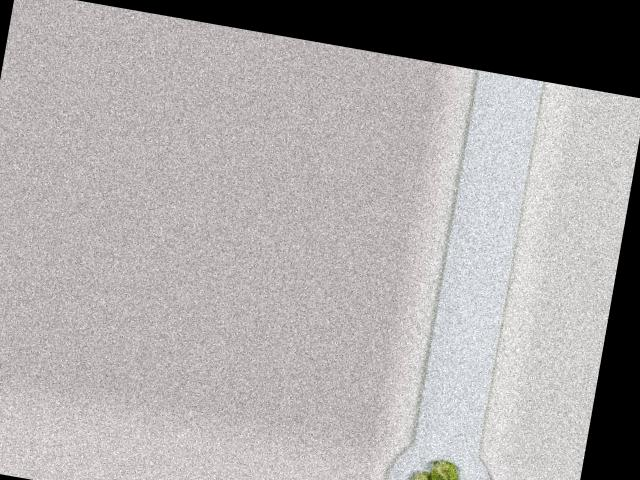lettuce: (404, 449, 475, 480)
